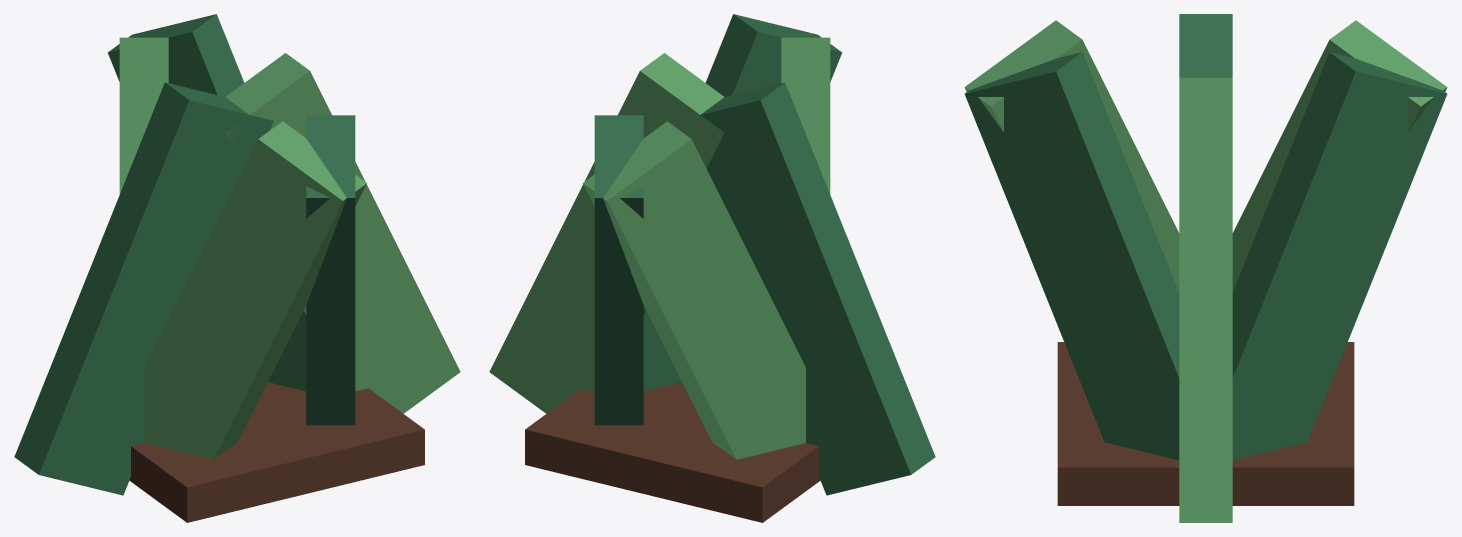
Rendered from GreenwoodFern.glb.
3 views of the same model, side by side, from view 1: azimuth 30°, elevation 25°; view 2: azimuth 150°, elevation 25°; view 3: azimuth 270°, elevation 25° (orthographic). The views are drawn at different scales.
Parts seen in each view (by area): view 1: GreenwoodFern; view 2: GreenwoodFern; view 3: GreenwoodFern.
Boxes of the visible parts, box(x1,y1,x2,y2) form: GreenwoodFern: box(14, 14, 460, 522); GreenwoodFern: box(489, 14, 935, 522); GreenwoodFern: box(964, 14, 1447, 522).
Bounding box in the file's own units: 2.49 × 2.14 × 2.28.
